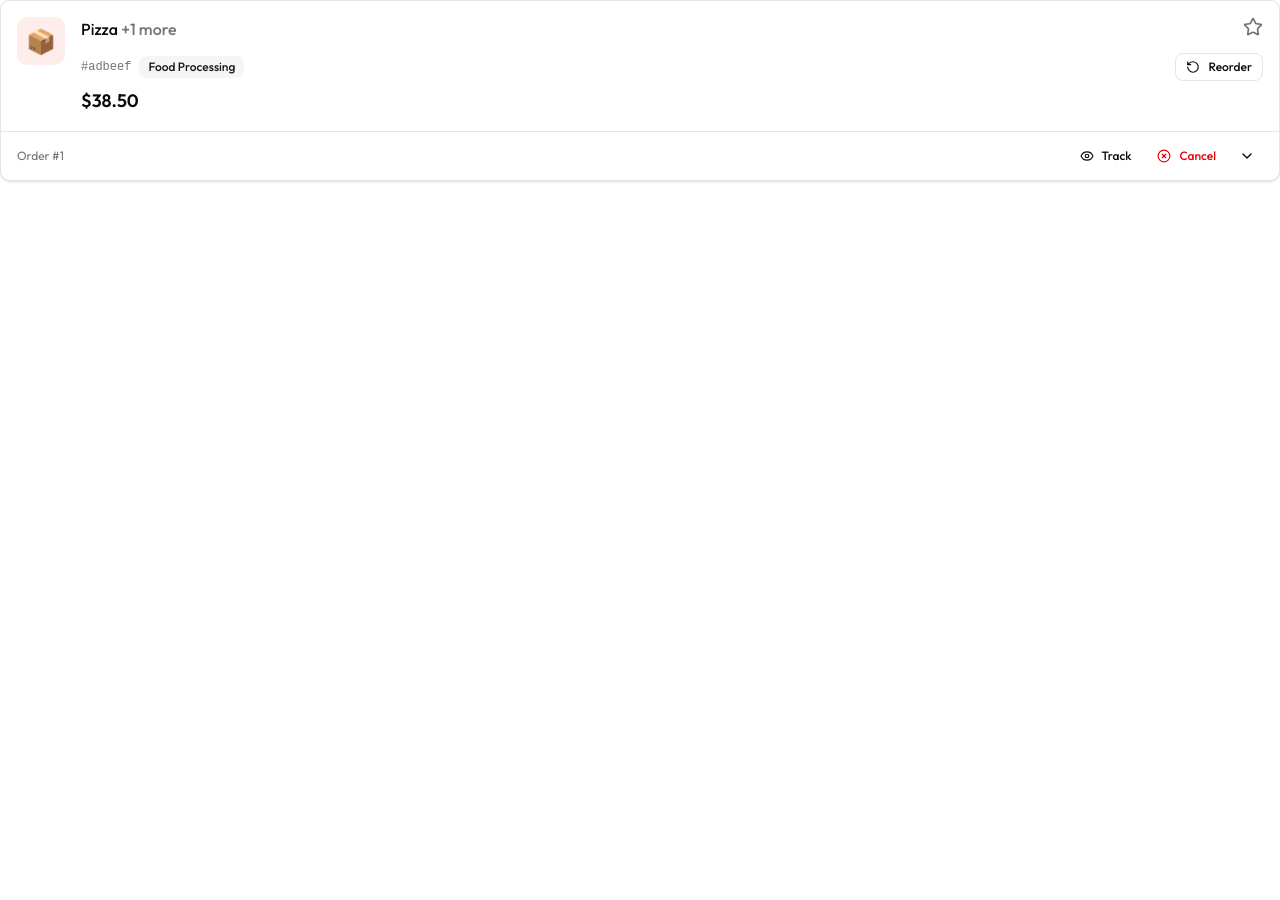
OrderCard cancel functionality › shows refund message in cancel dialog for paid orders
Click the button "Cancel".
click(1187, 156)  # box [1146,140,1227,172]
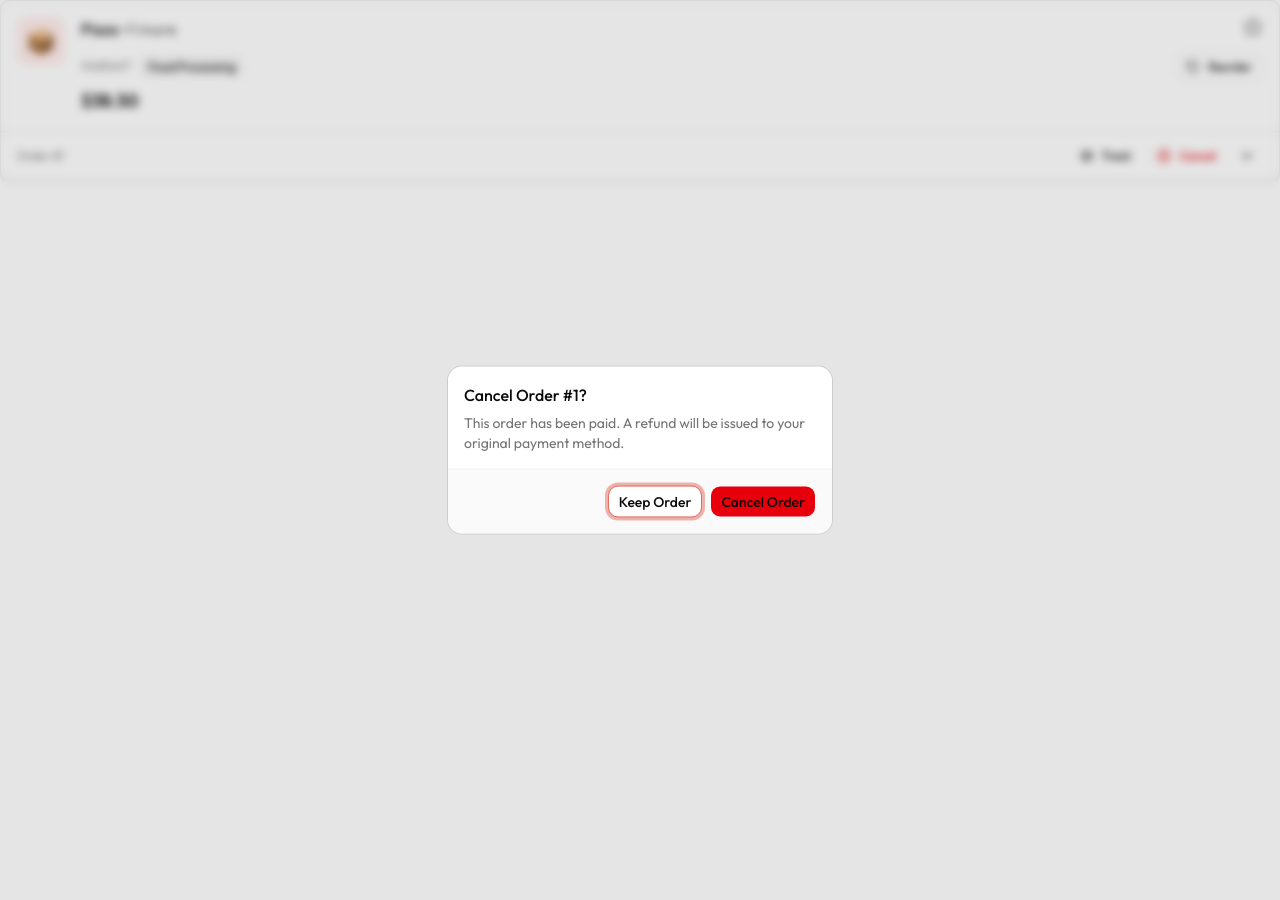
Expected: the text "refund will be issued" is shown, [464,414,805,452]
